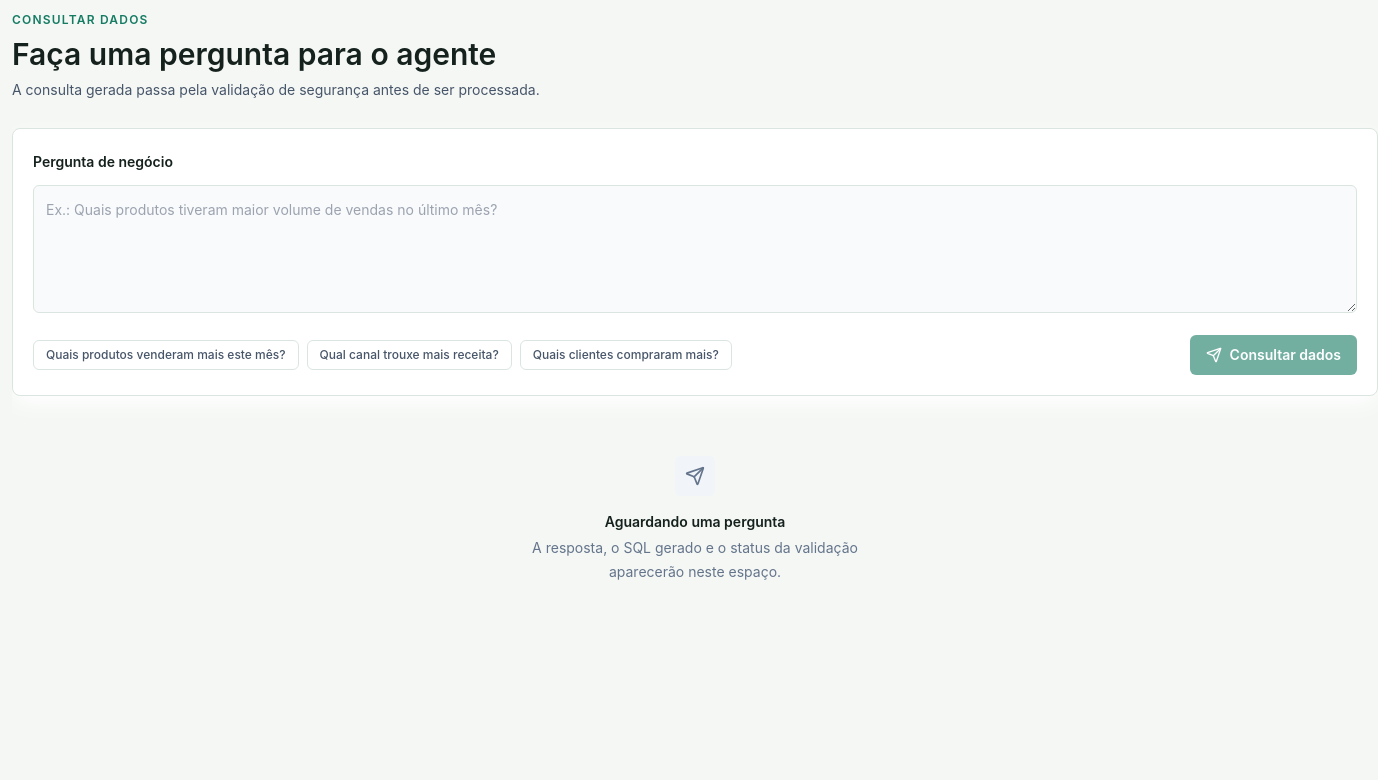
Test case: AskDataPage › shows the normalized API error when a query fails
The image size is (1378, 780).
Type "Quais produtos venderam mais?" into the text box labelled "Pergunta de negócio" at (695, 249), box [33,185,1357,313]
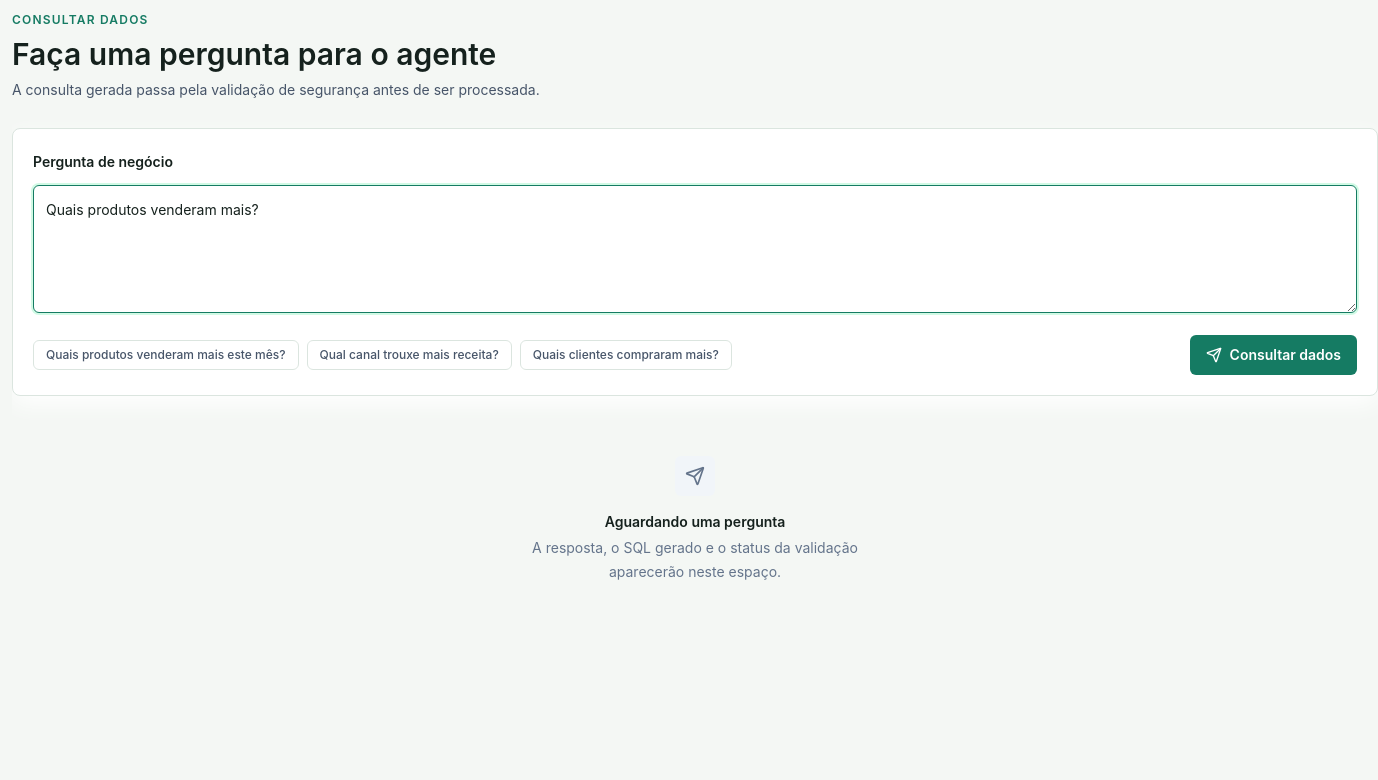
Click the button "Consultar dados" at (1273, 355), box [1190,335,1357,375]
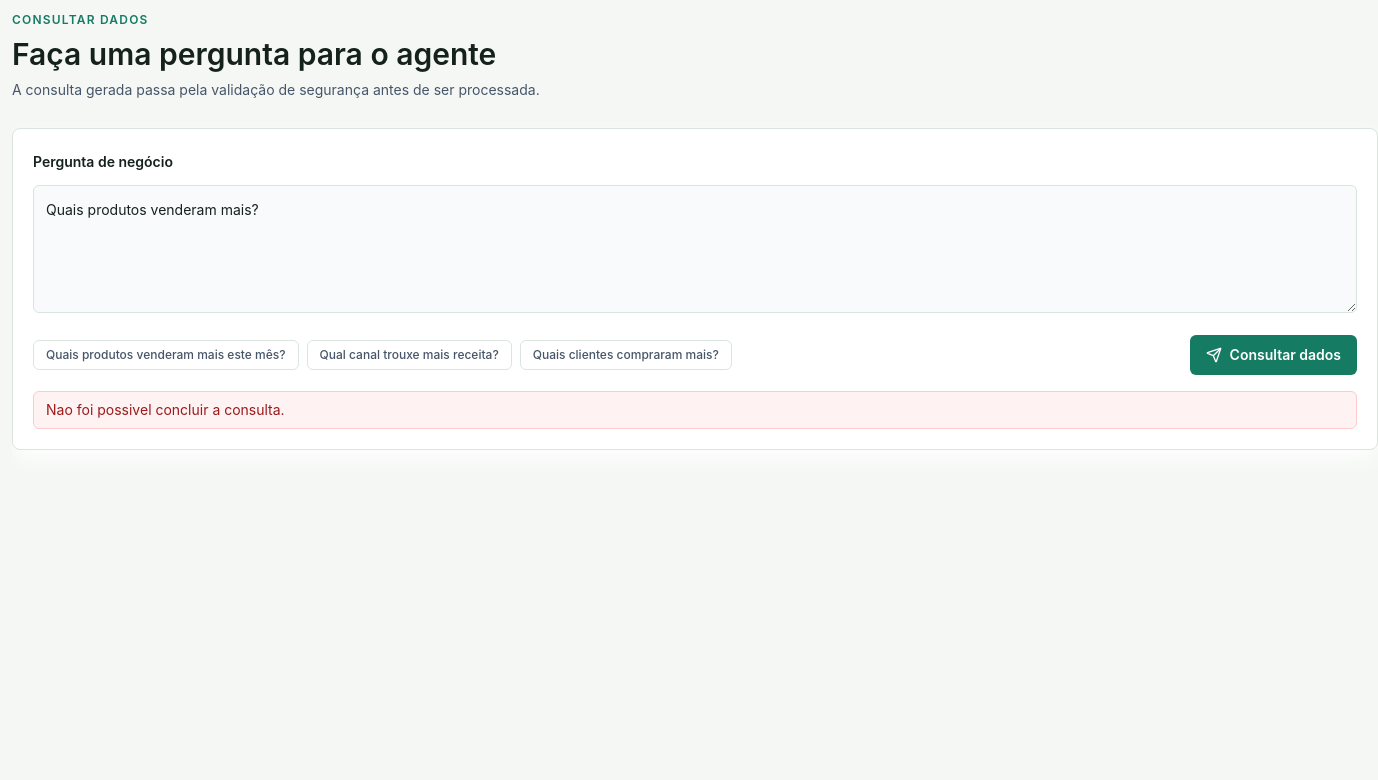
expect the message reads "Nao foi possivel concluir a consulta.": met, box [46,401,285,418]
